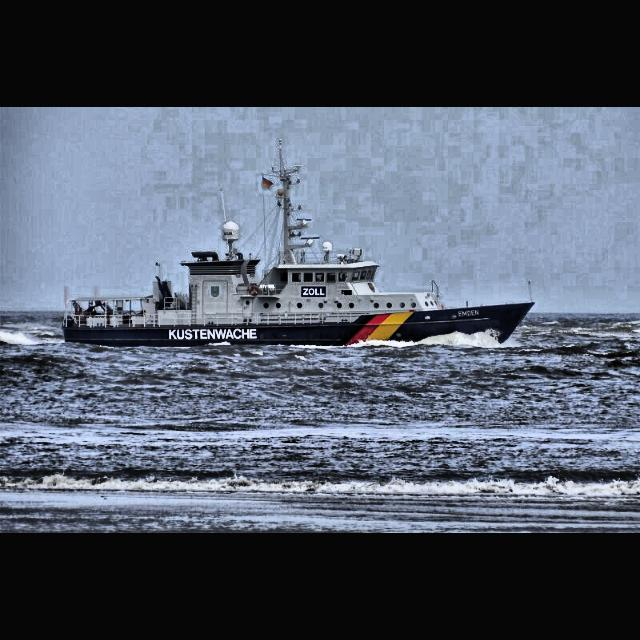patrol_vessel: (59, 215, 537, 349)
